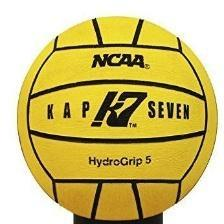Sports-Ball: (21, 10, 216, 219)
